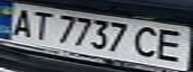3: (87, 18, 112, 52)
7: (106, 20, 133, 54), (51, 12, 75, 45), (69, 15, 93, 48)
A: (6, 6, 39, 38)
C: (130, 24, 163, 60)
E: (151, 26, 193, 63)
T: (27, 9, 57, 42)
